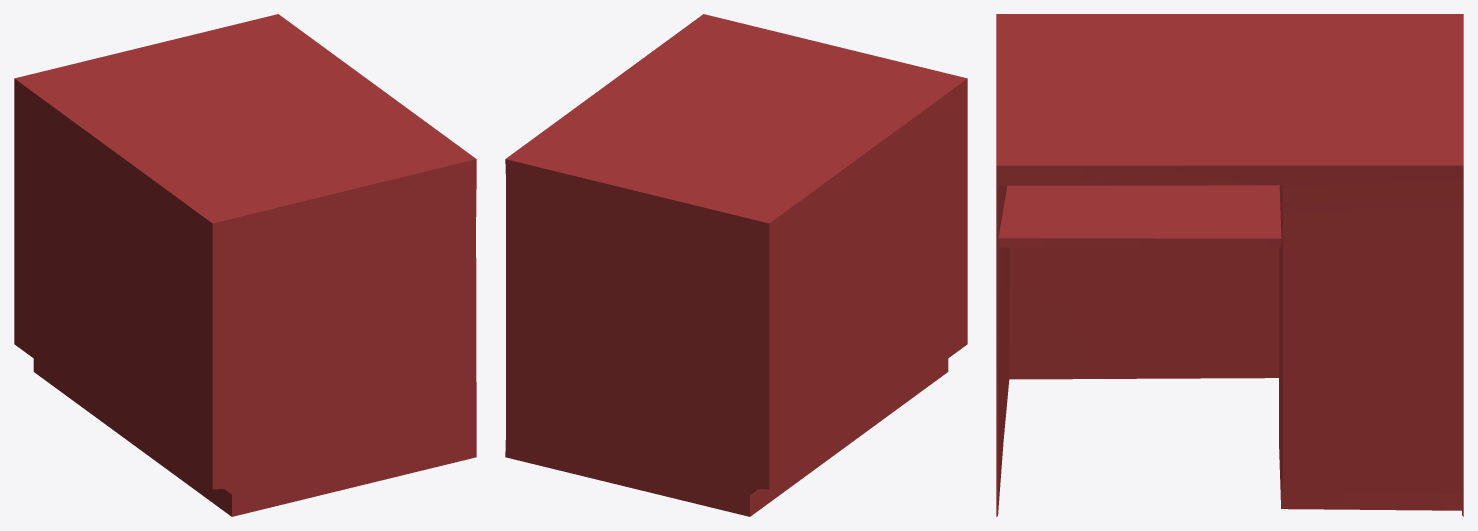
File: st2_table_01.fbx
3 renders of one model, left to right at view 1: azimuth 30°, elevation 25°; view 2: azimuth 150°, elevation 25°; view 3: azimuth 270°, elevation 25°, orthographic. The views are drawn at different scales.
Visible parts, largest first — view 1: Plane004; view 2: Plane004; view 3: Plane004.
Part boxes in pixels (<box>): Plane004: <box>14,14,476,516</box>; Plane004: <box>505,14,967,516</box>; Plane004: <box>996,14,1463,516</box>.
Size of the model in its own units: 693 by 748 by 901.
